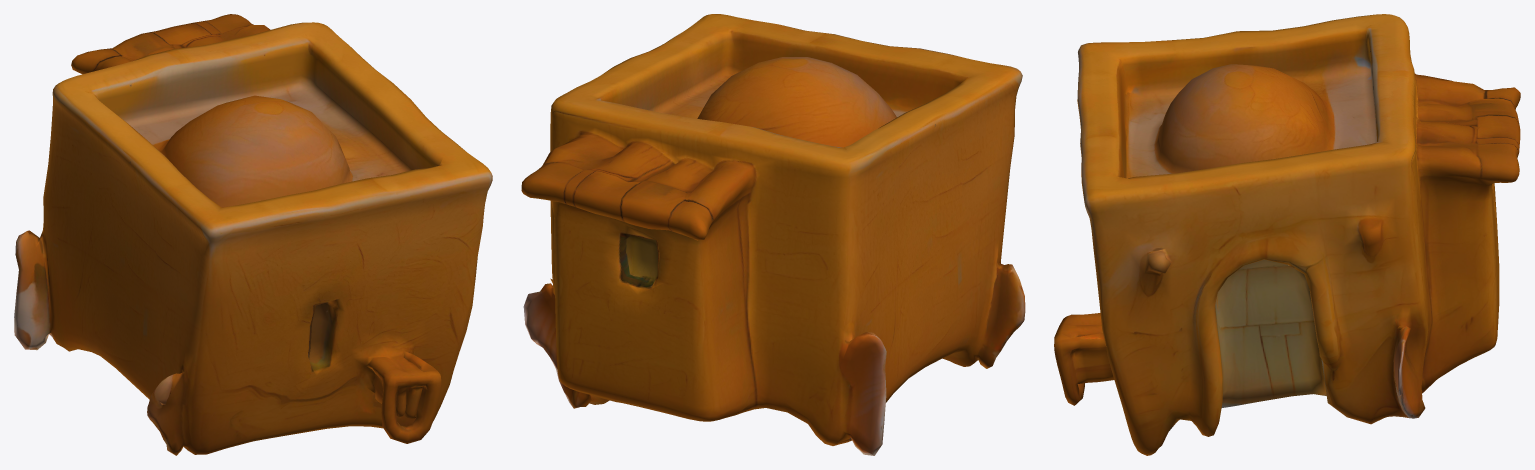
3 renders of one model, left to right at view 1: azimuth 30°, elevation 25°; view 2: azimuth 150°, elevation 25°; view 3: azimuth 270°, elevation 25°, orthographic. The views are drawn at different scales.
Visible parts, largest first — view 1: tripo_node_621096cc; view 2: tripo_node_621096cc; view 3: tripo_node_621096cc.
Boxes of the visible parts, left/top/right/bottom form: tripo_node_621096cc: left=14, top=14, right=492, bottom=455; tripo_node_621096cc: left=521, top=14, right=1025, bottom=455; tripo_node_621096cc: left=1054, top=14, right=1520, bottom=455.
Bounding box in the file's own units: 84.15 × 76.86 × 99.57.
1 material, 1 textured.
